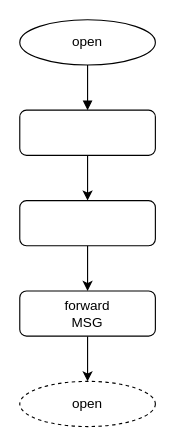
Some shapes in this 175 by 446 pixel diagram are drawn without their labels. Each missing label, with the centre of its shape:
"get other users from sender's channel" belongs at (x=87, y=222).
"receive MSG" belongs at (x=87, y=132).
